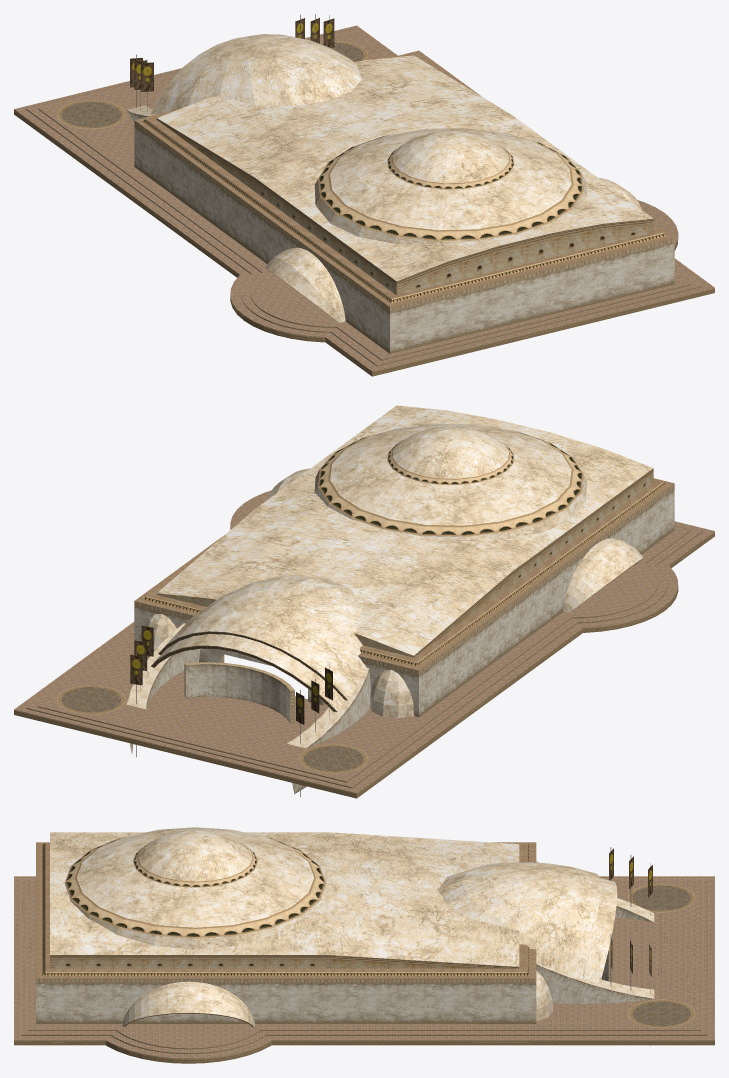
Rendered from mun_tato_guild_theater_s01_r0_mesh_l0.fbx.
The picture shows the model from 3 angles, top to bottom: view 1: azimuth 30°, elevation 25°; view 2: azimuth 150°, elevation 25°; view 3: azimuth 270°, elevation 25°; orthographic projection. The views are drawn at different scales.
Visible parts, largest first — view 1: mesh_node; view 2: mesh_node; view 3: mesh_node.
Part boxes in pixels (bbox=[...]): mesh_node: bbox=[14, 14, 714, 376]; mesh_node: bbox=[14, 405, 714, 798]; mesh_node: bbox=[14, 827, 714, 1063].
Bounding box in the file's own units: 82.18 × 32.27 × 121.
